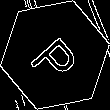P_NE: (25, 24, 85, 86)
